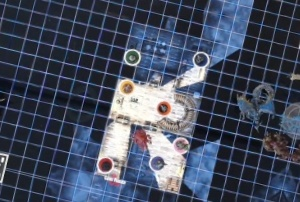green: (121, 43, 144, 66)
orange: (153, 96, 174, 117)
pink: (168, 132, 193, 156)
red: (94, 152, 118, 174)
violet: (144, 151, 171, 174), (188, 47, 212, 69)
yellow: (115, 74, 137, 97)
